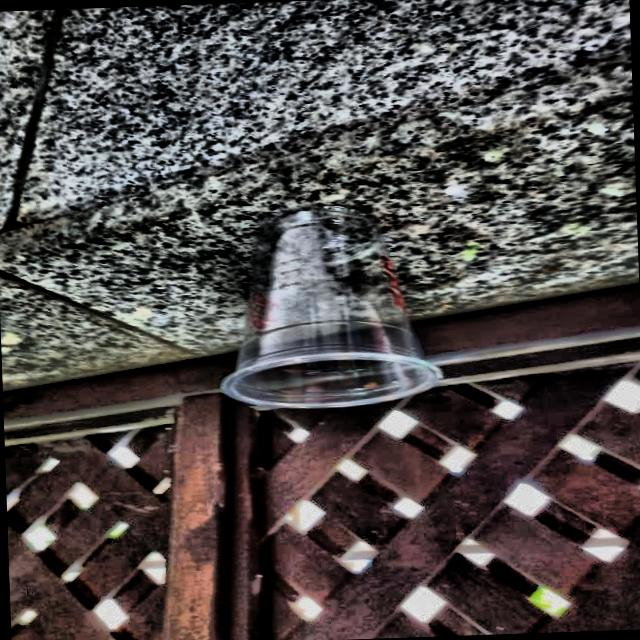plastic cup: (202, 192, 451, 418)
